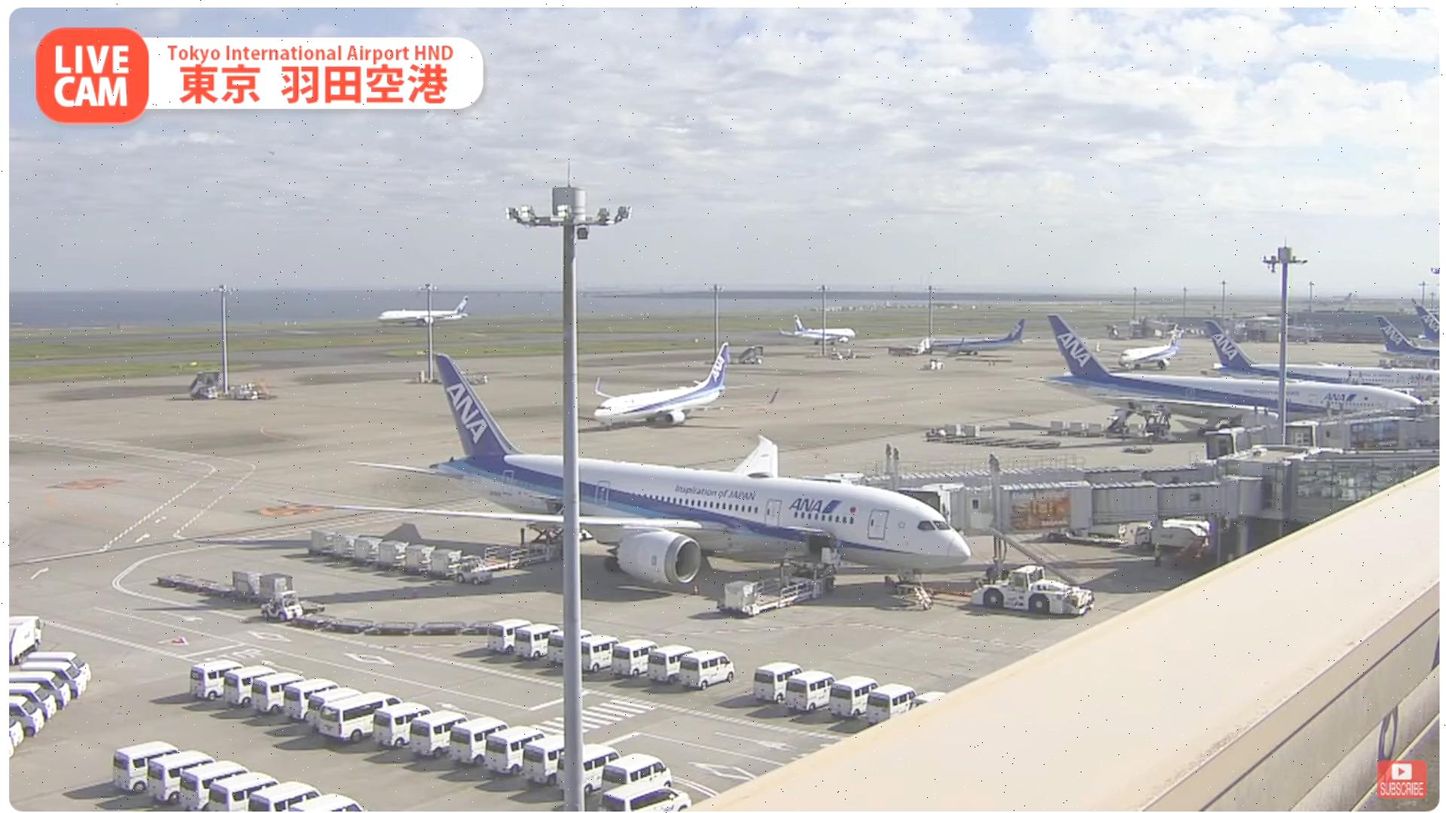APS: (969, 564, 1106, 619)
Aerobridge: (899, 476, 1264, 540), (843, 457, 1217, 496)
Airplane: (330, 354, 973, 599)
Dolly: (153, 565, 328, 612), (306, 530, 458, 578), (295, 610, 497, 640)
JCPL: (717, 553, 843, 617), (450, 522, 565, 575)
Tractor: (260, 589, 304, 621), (454, 553, 493, 585)
Window: (1290, 456, 1440, 523)
